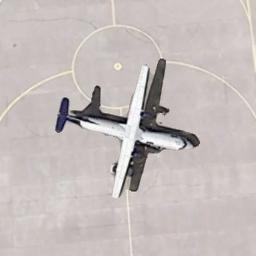Airplane: (46, 44, 208, 210)
